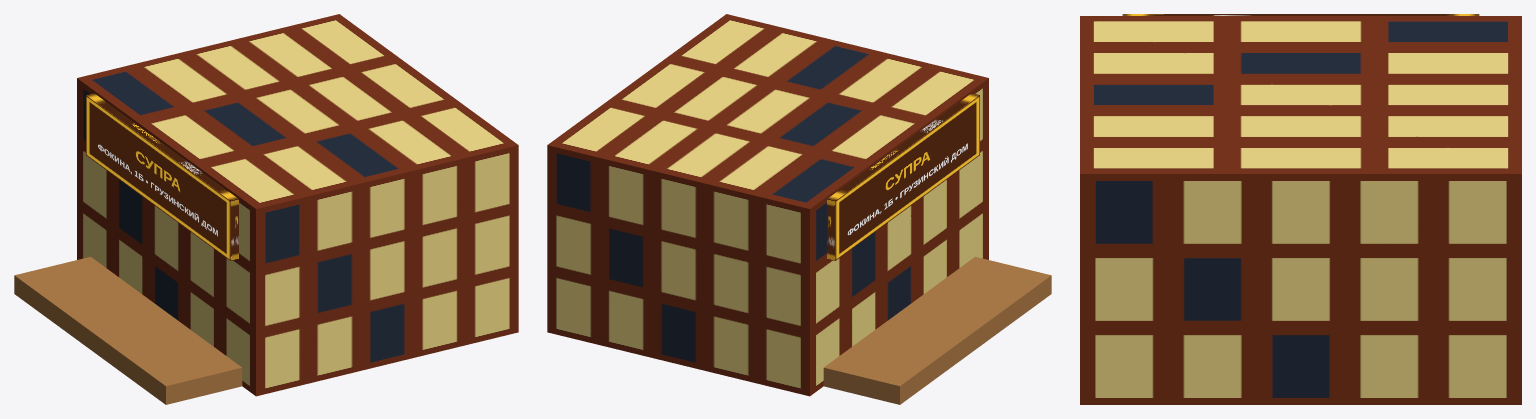
Rendered from supra_restaurant.glb.
The picture shows the model from 3 angles, left to right: view 1: azimuth 30°, elevation 25°; view 2: azimuth 150°, elevation 25°; view 3: azimuth 270°, elevation 25°; orthographic projection. The views are drawn at different scales.
Parts seen in each view (by area): view 1: supraBuilding, terrace, supraSign; view 2: supraBuilding, terrace, supraSign; view 3: supraBuilding, supraSign.
Boxes of the visible parts, x1,y1,x2,y2 form: supraBuilding: [77, 14, 518, 396]; terrace: [14, 256, 242, 404]; supraSign: [86, 93, 238, 260]; supraBuilding: [547, 14, 988, 396]; terrace: [823, 256, 1051, 404]; supraSign: [827, 93, 979, 260]; supraBuilding: [1080, 16, 1521, 404]; supraSign: [1122, 14, 1479, 15].
Size of the model in its own units: 14.2 by 7.5 by 13.
3 materials, 2 textured.
